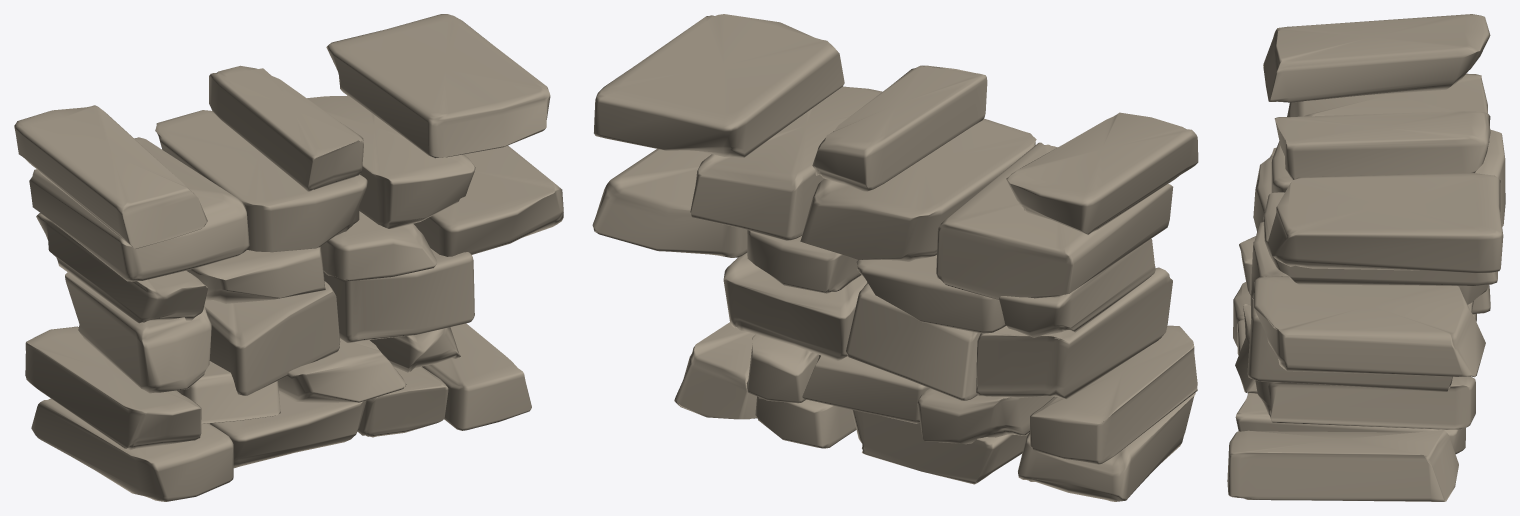
The model's file is landscape.rock.scar_d.glb.
3 renders of one model, left to right at view 1: azimuth 30°, elevation 25°; view 2: azimuth 150°, elevation 25°; view 3: azimuth 270°, elevation 25°, orthographic. The views are drawn at different scales.
Visible parts, largest first — view 1: main__stone_a98; view 2: main__stone_a98; view 3: main__stone_a98.
Boxes of the visible parts, x1,y1,x2,y2 form: main__stone_a98: (14,14,563,501); main__stone_a98: (592,14,1198,501); main__stone_a98: (1227,14,1505,501).
Bounding box in the file's own units: 6.95 × 4.32 × 3.56.
